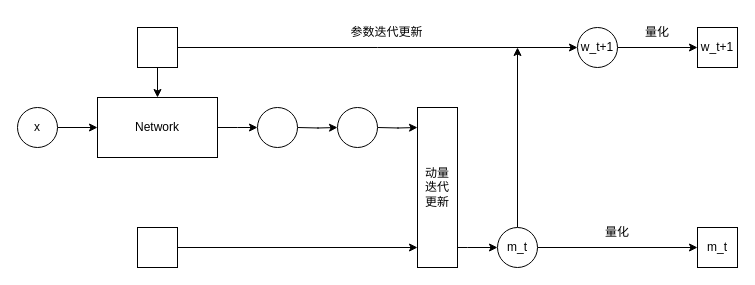
Image size: 755x285. Some labels were removed from this diagram. Here are the shapes that lost their labels. From the top down, the centre of each, then its label:
the point at 157,47: w_t
the point at 277,127: loss
the point at 357,127: g_t
the point at 157,247: m_t-1
